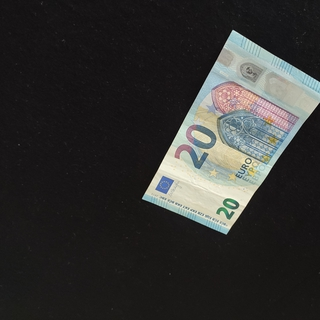20EUROFront: (141, 29, 320, 234)
